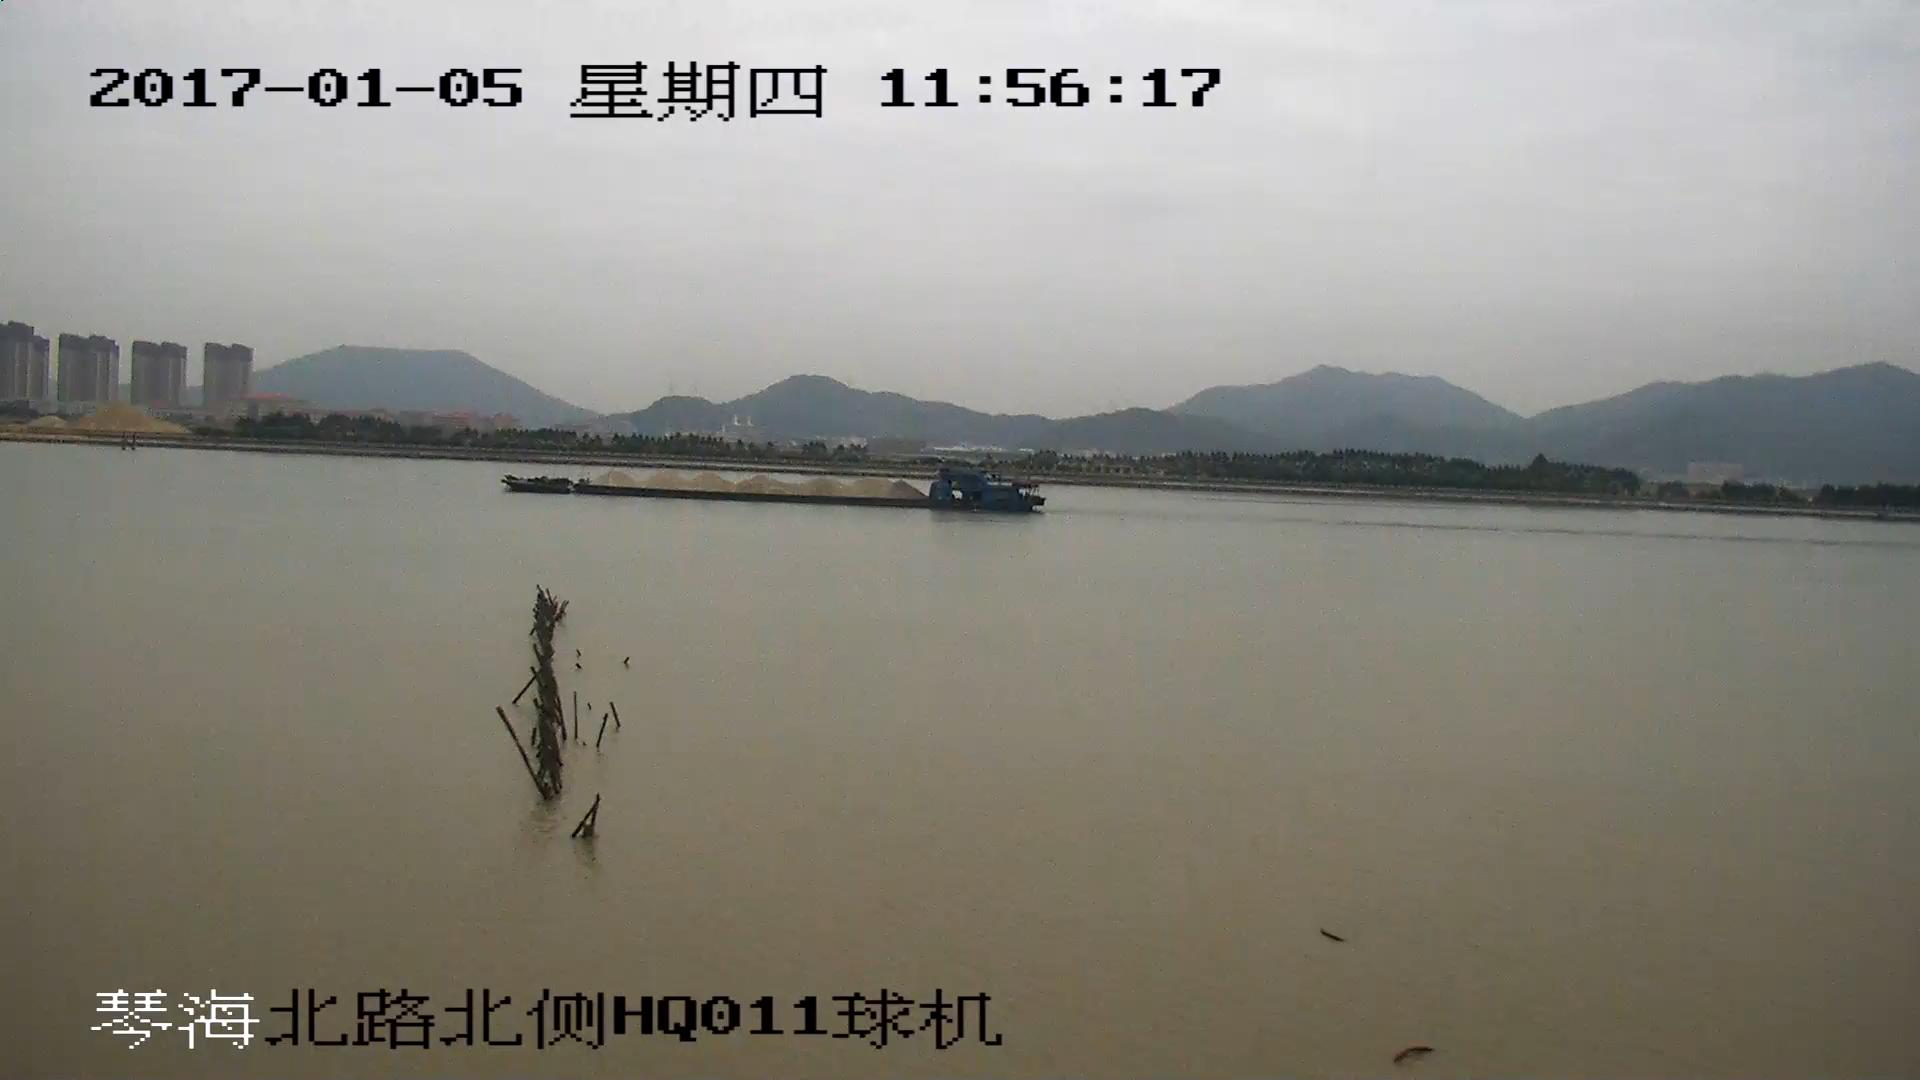ore carrier: (506, 472, 1048, 514)
